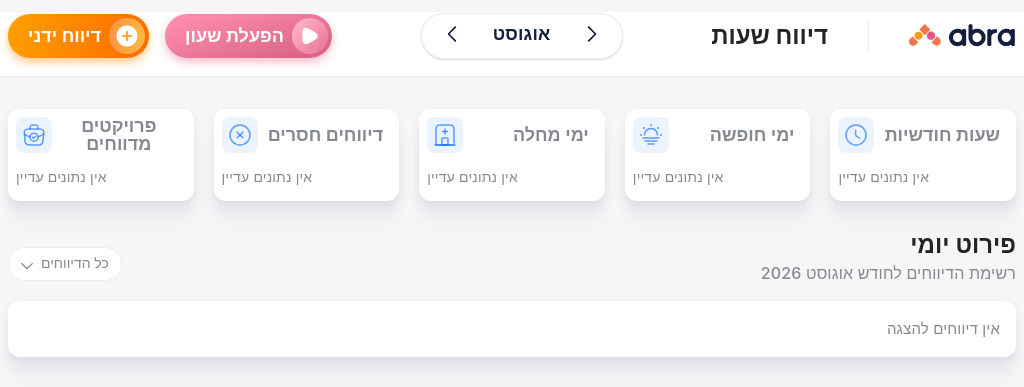
Reports home shell › advances the month label without changing empty copy
The width and height of the screenshot is (1024, 387).
Click the button named "חודש הבא" at point(452, 34), box [442, 24, 462, 44]
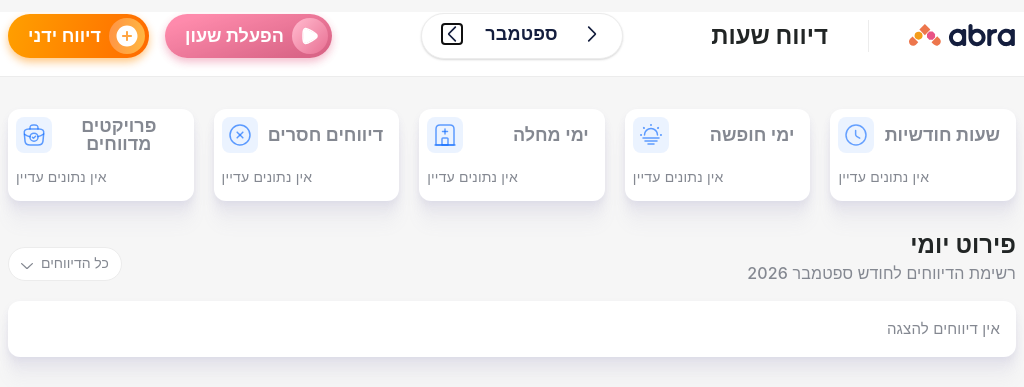
Expected: the text "אין נתונים עדיין" is shown 5 times, [838, 168, 929, 185]; [633, 168, 724, 185]; [427, 168, 518, 185]; [222, 168, 312, 185]; [16, 168, 107, 185]
Now the text with test id "month-label" no longer shows "אוגוסט"
Click the button named "חודש קודם" at point(592, 34), box [582, 24, 602, 44]
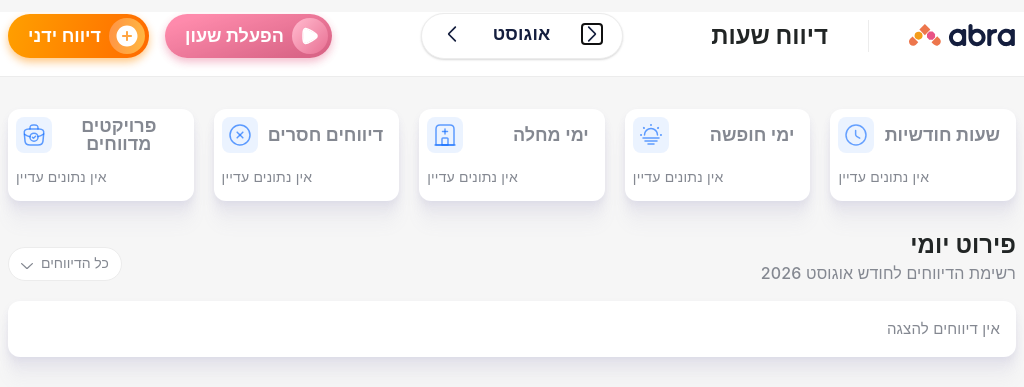
Now the text with test id "month-label" reads "אוגוסט", box [493, 23, 550, 44]
